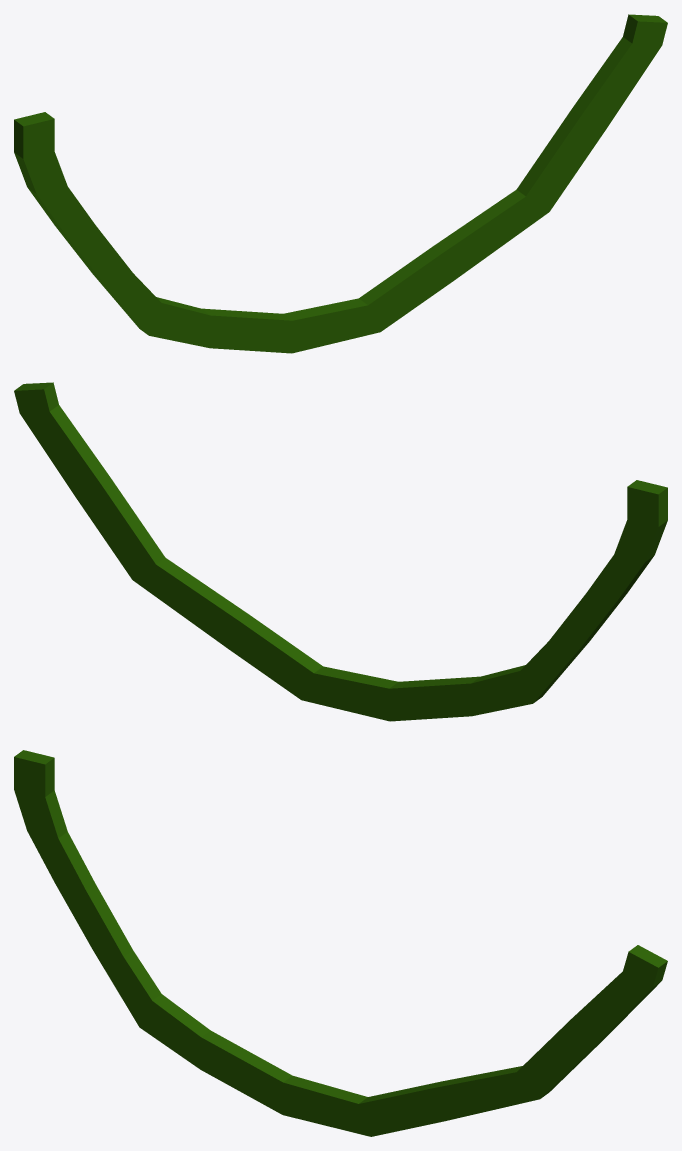
File: Lowpoly_vine_01.fbx
3 renders of one model, top to bottom at view 1: azimuth 30°, elevation 25°; view 2: azimuth 150°, elevation 25°; view 3: azimuth 330°, elevation 25°, orthographic.
Visible parts, largest first — view 1: Cube.005; view 2: Cube.005; view 3: Cube.005.
Boxes of the visible parts, x1,y1,x2,y2 form: Cube.005: [14, 14, 667, 353]; Cube.005: [14, 382, 667, 721]; Cube.005: [14, 750, 667, 1136].
Bounding box in the file's own units: 1056 × 458 × 26.79.
